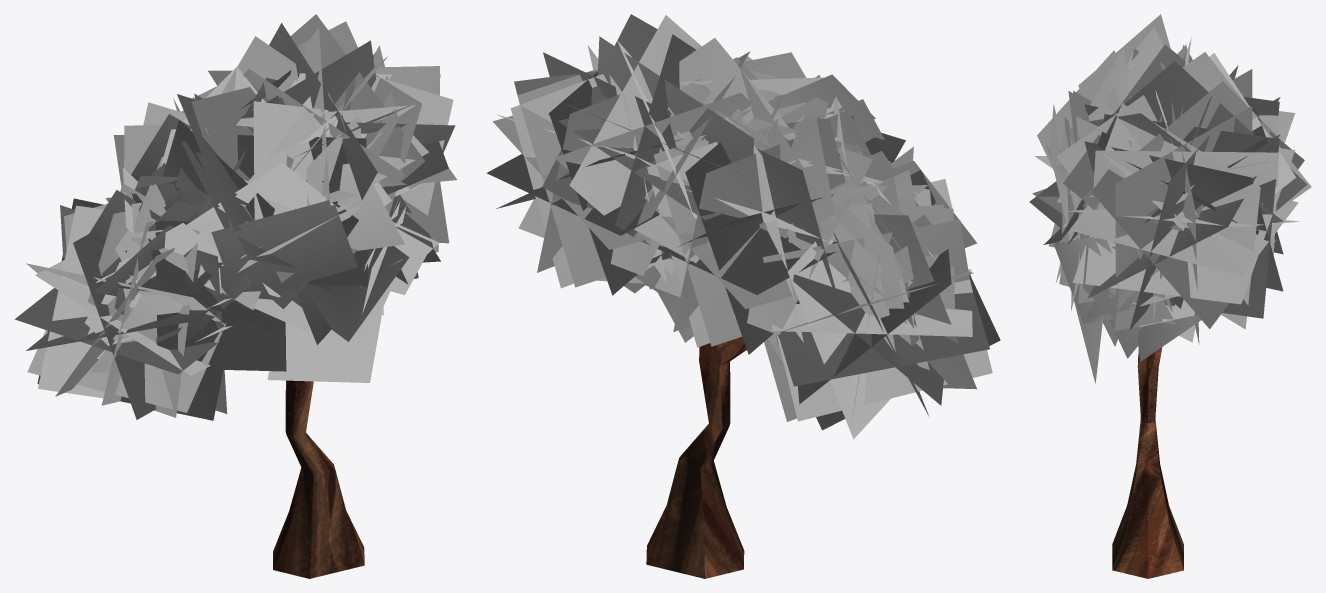
The model's file is town tree2.fbx.
3 views of the same model, side by side, from view 1: azimuth 30°, elevation 25°; view 2: azimuth 150°, elevation 25°; view 3: azimuth 270°, elevation 25° (orthographic). The views are drawn at different scales.
Visible parts, largest first — view 1: leaves, tree; view 2: leaves, tree; view 3: leaves, tree.
Boxes of the visible parts, box(x1,y1,x2,y2) form: leaves: box(14, 14, 456, 420); tree: box(273, 380, 364, 578); leaves: box(486, 14, 1000, 439); tree: box(646, 336, 746, 578); leaves: box(1029, 14, 1311, 383); tree: box(1112, 347, 1183, 578).
Bounding box in the file's own units: 531 × 605 × 308.
